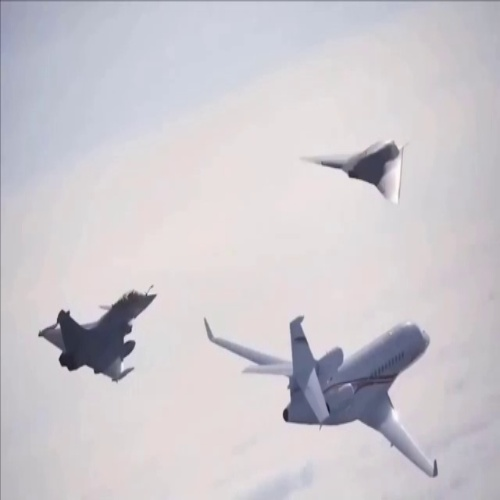uav: (295, 138, 410, 204)
